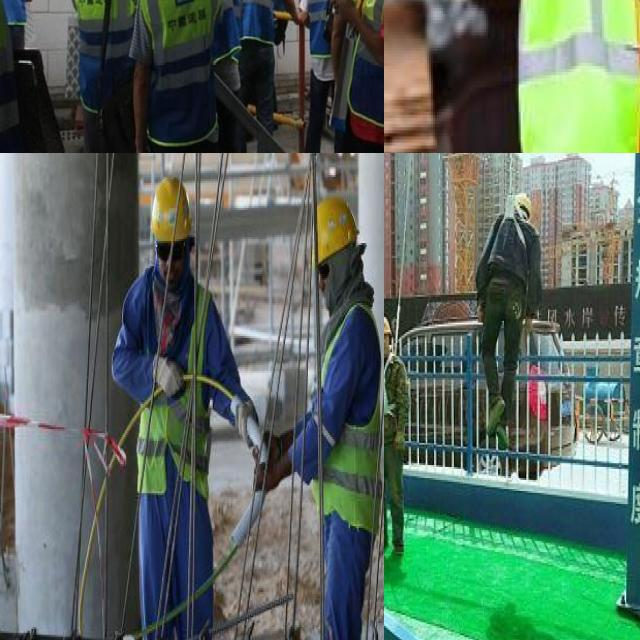face_nomask: (157, 243, 186, 293), (384, 330, 390, 356)
hand_glove: (252, 447, 292, 497), (148, 354, 186, 400), (232, 387, 258, 452), (264, 420, 296, 462), (391, 430, 409, 459), (520, 312, 537, 339), (476, 302, 484, 323)
hand_noglove: (331, 0, 358, 26)
head_helmet: (309, 196, 363, 262), (152, 179, 193, 241), (513, 190, 534, 217), (384, 313, 394, 337)
person: (128, 178, 212, 640), (304, 204, 380, 640), (522, 0, 640, 153), (482, 186, 540, 439), (132, 0, 224, 153), (63, 0, 141, 153), (235, 0, 286, 153), (0, 0, 47, 153), (305, 0, 352, 153), (338, 0, 384, 153), (384, 311, 410, 555), (202, 0, 243, 59), (0, 0, 40, 37)
shoes: (384, 532, 390, 553)
vest: (524, 0, 640, 153), (138, 281, 202, 486), (324, 305, 383, 526), (140, 0, 227, 138), (70, 0, 136, 111), (356, 0, 384, 124), (0, 0, 20, 153), (234, 0, 283, 47), (307, 0, 346, 56), (205, 0, 240, 38), (0, 0, 34, 27)
